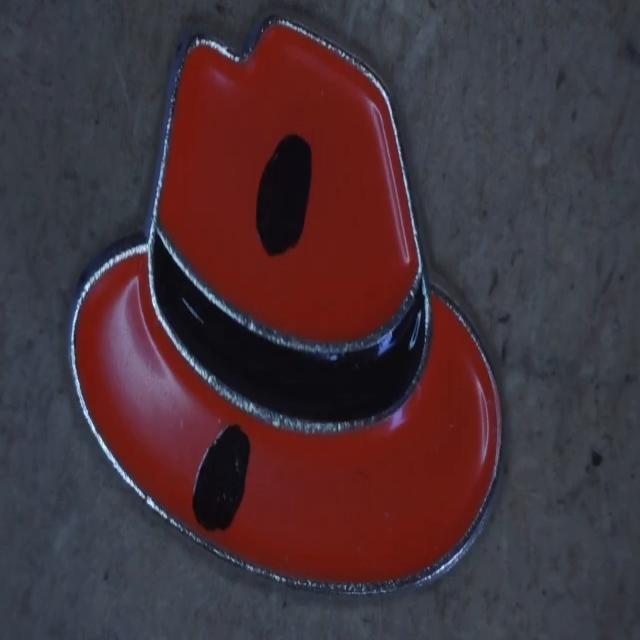Hatband: (151, 233, 429, 428)
Paint_Leak: (256, 136, 311, 256), (192, 424, 250, 531)
RedHatPin: (70, 20, 501, 591)
